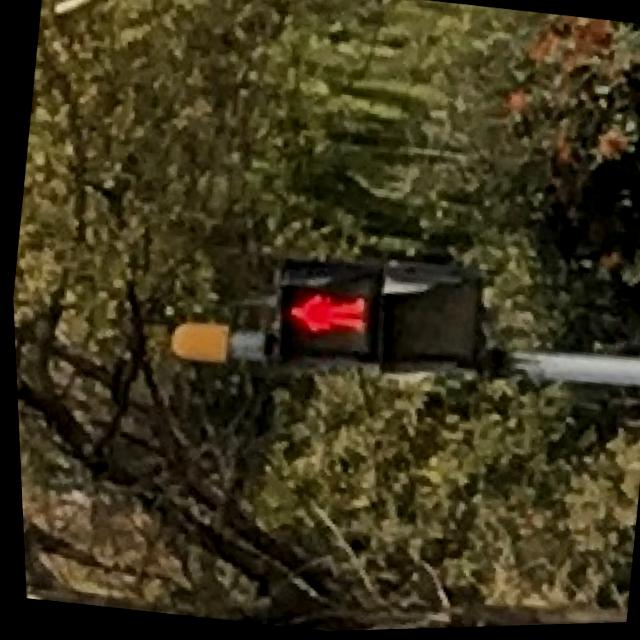red_light: (265, 264, 378, 356)
